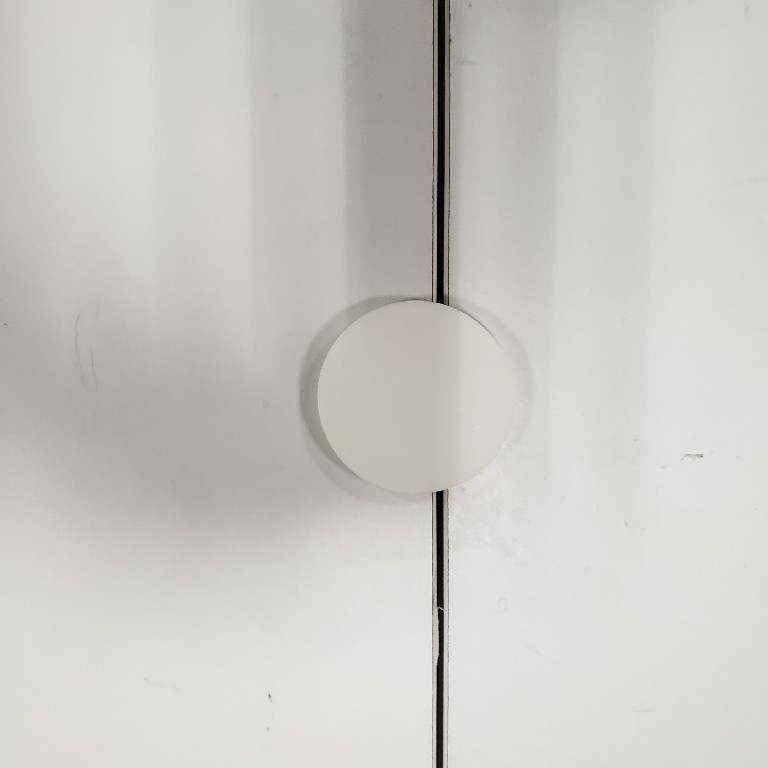ceramics: (311, 296, 520, 500)
